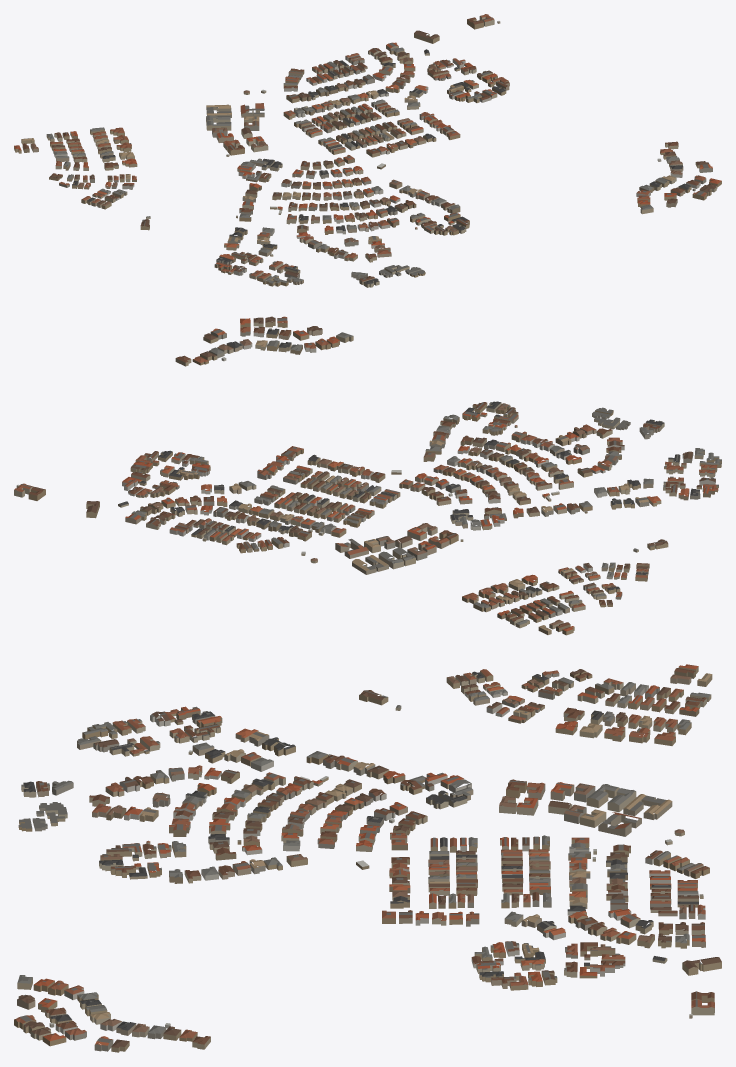
3 renders of one model, top to bottom at view 1: azimuth 30°, elevation 25°; view 2: azimuth 150°, elevation 25°; view 3: azimuth 270°, elevation 25°, orthographic. The views are drawn at different scales.
Visible parts, largest first — view 1: buildings_r4_c2_lod1; view 2: buildings_r4_c2_lod1; view 3: buildings_r4_c2_lod1.
Boxes of the visible parts, bbox=[...] form: buildings_r4_c2_lod1: bbox=[14, 14, 721, 287]; buildings_r4_c2_lod1: bbox=[14, 316, 721, 635]; buildings_r4_c2_lod1: bbox=[14, 664, 721, 1052].
Size of the model in its own units: 1041 by 50.62 by 817.
